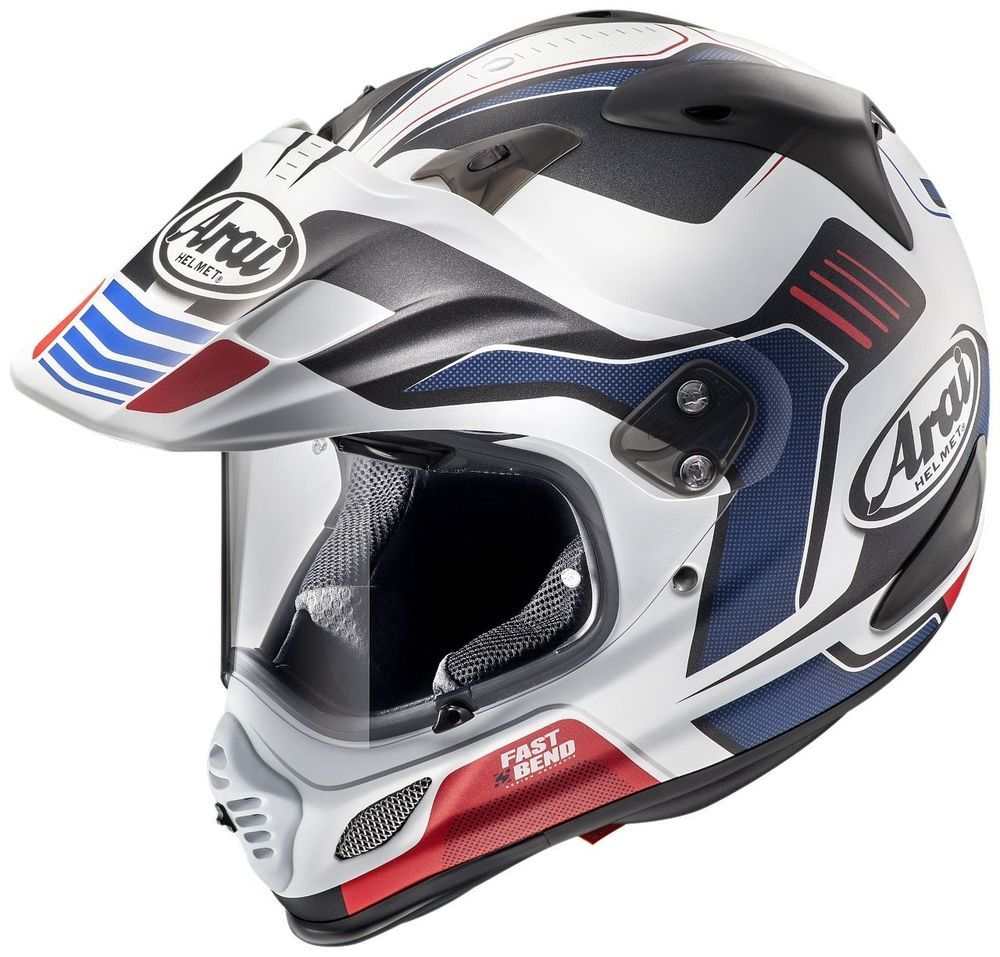Helmet: (4, 5, 1000, 946)
